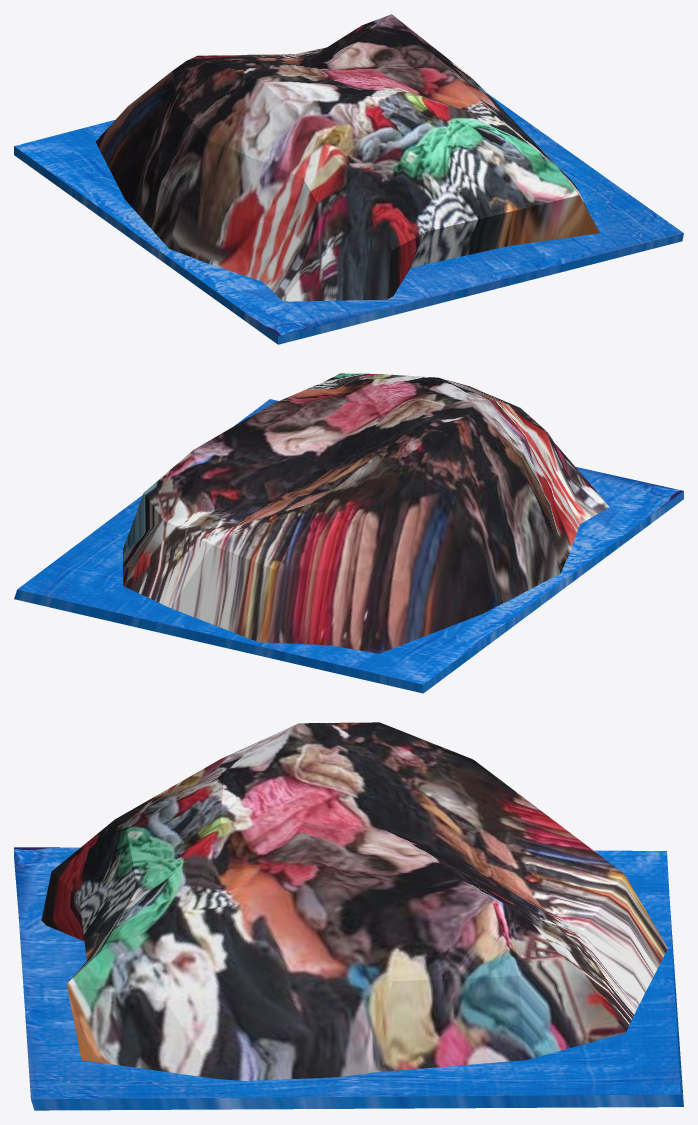
Rendered from clothes-pile2.fbx.
3 renders of one model, top to bottom at view 1: azimuth 30°, elevation 25°; view 2: azimuth 150°, elevation 25°; view 3: azimuth 270°, elevation 25°, orthographic. The views are drawn at different scales.
Visible parts, largest first — view 1: Cube.001; view 2: Cube.001; view 3: Cube.001.
Boxes of the visible parts, x1,y1,x2,y2 form: Cube.001: [14, 14, 683, 344]; Cube.001: [14, 373, 683, 693]; Cube.001: [14, 722, 683, 1110].
Size of the model in its own units: 653 by 241 by 742.
2 materials, 2 textured.
